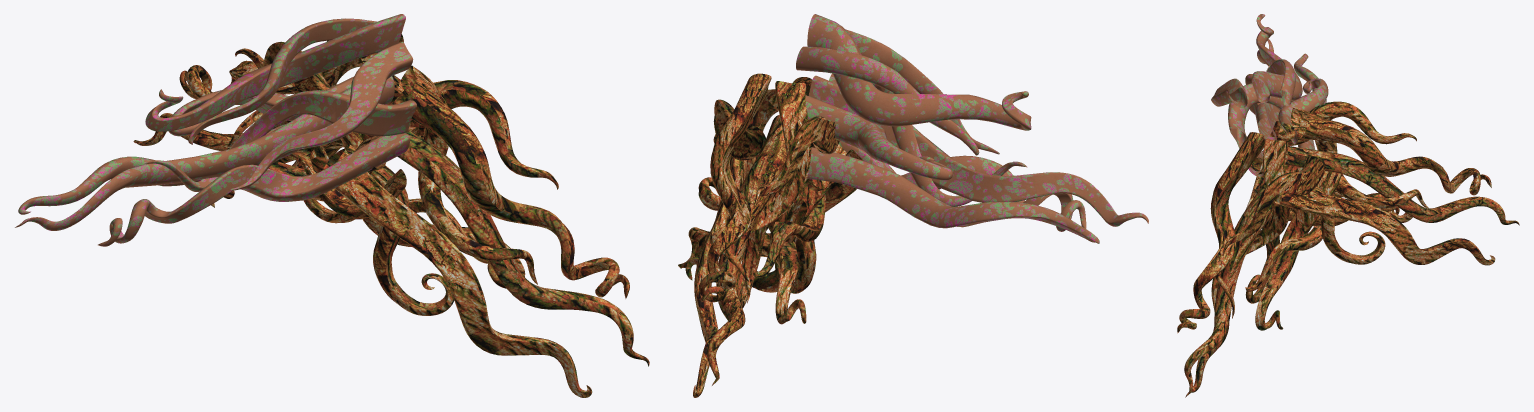
Rendered from dmtreeroots2.glb.
The picture shows the model from 3 angles, left to right: view 1: azimuth 30°, elevation 25°; view 2: azimuth 150°, elevation 25°; view 3: azimuth 270°, elevation 25°; orthographic projection. The views are drawn at different scales.
Parts seen in each view (by area): view 1: plant.008, plant.009, plant.010; view 2: plant.008, plant.010, plant.009; view 3: plant.010, plant.009, plant.008.
Part boxes in pixels (left/top/right/bottom): plant.008: left=15, top=14, right=416, bottom=246; plant.009: left=310, top=65, right=649, bottom=397; plant.010: left=133, top=34, right=424, bottom=223; plant.008: left=796, top=14, right=1148, bottom=243; plant.010: left=693, top=73, right=847, bottom=397; plant.009: left=678, top=77, right=863, bottom=293; plant.010: left=1250, top=101, right=1519, bottom=265; plant.009: left=1177, top=132, right=1341, bottom=397; plant.008: left=1211, top=14, right=1328, bottom=176.
Size of the model in its own units: 0.9546 by 0.6094 by 0.7074.
2 materials, 2 textured.
